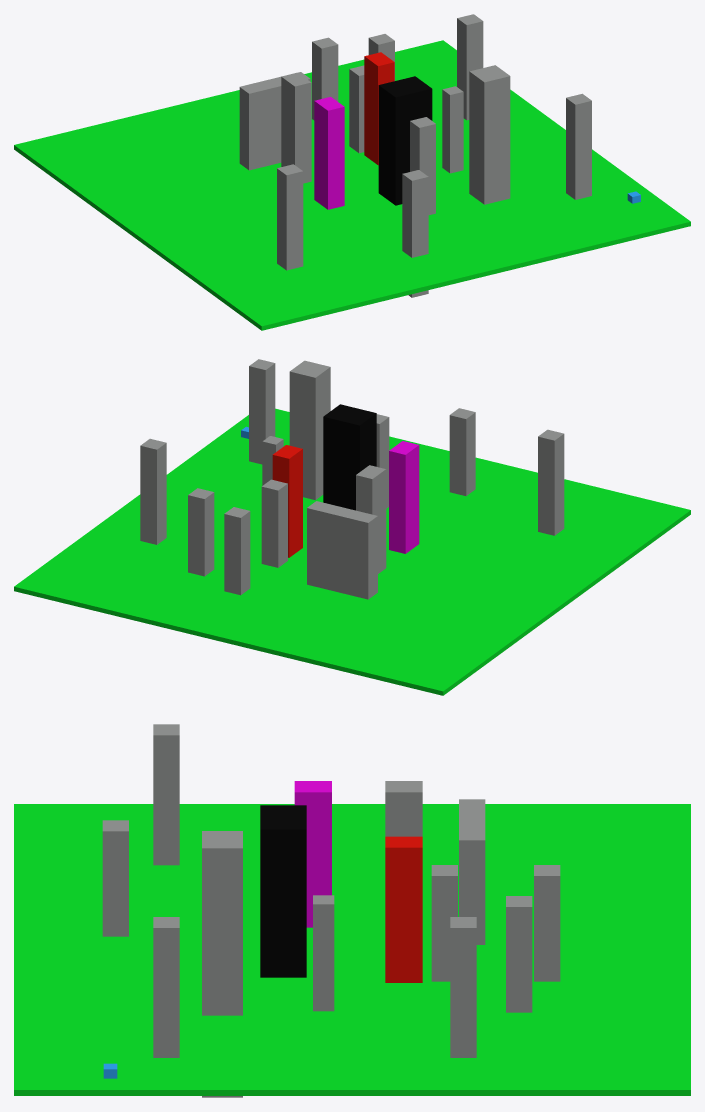
File: city.glb
3 views of the same model, one above another, from view 1: azimuth 30°, elevation 25°; view 2: azimuth 150°, elevation 25°; view 3: azimuth 270°, elevation 25° (orthographic). The views are drawn at different scales.
Visible parts, largest first — view 1: CityGround, Cube.005, Enter1Building, Cube.002, Quizz1Building, Cube, Cube.009, Cube.010, Cube.001, Quizz2Building, Cube.011, Cube.004 (+4 smaller); view 2: CityGround, Cube.002, Enter1Building, Cube.005, Quizz1Building, Cube.011, Cube.009, Cube.010, Cube.006, Cube.007, Cube.008, Cube.001 (+4 smaller); view 3: CityGround, Enter1Building, Cube.005, Quizz2Building, Cube.009, Cube.010, Cube.011, Quizz1Building, Cube.002, Cube.001, Cube.006, Cube.008 (+3 smaller).
Boxes of the visible parts, x1,y1,x2,y2 form: CityGround: (14,40,690,330); Cube.005: (469,65,510,204); Enter1Building: (378,76,432,205); Cube.002: (239,72,310,170); Quizz1Building: (314,97,344,209); Cube: (281,72,311,183); Cube.009: (277,164,303,270); Cube.010: (566,93,591,199); Cube.001: (402,170,428,297); Quizz2Building: (364,52,394,165); Cube.011: (457,14,483,120); Cube.004: (442,86,463,173); CityGround: (14,408,690,695); Cube.002: (307,501,377,599); Enter1Building: (323,404,376,510); Cube.005: (289,360,330,500); Quizz1Building: (389,441,419,553); Cube.011: (140,438,166,544); Cube.009: (538,429,564,535); Cube.010: (249,359,275,464); Cube.006: (224,507,250,595); Cube.007: (261,479,287,567); Cube.008: (188,488,214,576); Cube.001: (449,408,475,495); CityGround: (14,804,690,1095); Enter1Building: (260,805,306,977); Cube.005: (202,831,242,1097); Quizz2Building: (385,836,422,982); Cube.009: (153,724,179,865); Cube.010: (153,917,179,1057); Cube.011: (450,917,476,1057); Quizz1Building: (294,781,331,927); Cube.002: (459,799,485,944); Cube.001: (102,820,128,936); Cube.006: (534,865,560,981); Cube.008: (506,896,532,1012).
Bounding box in the file's own units: 200 × 81.29 × 200.
